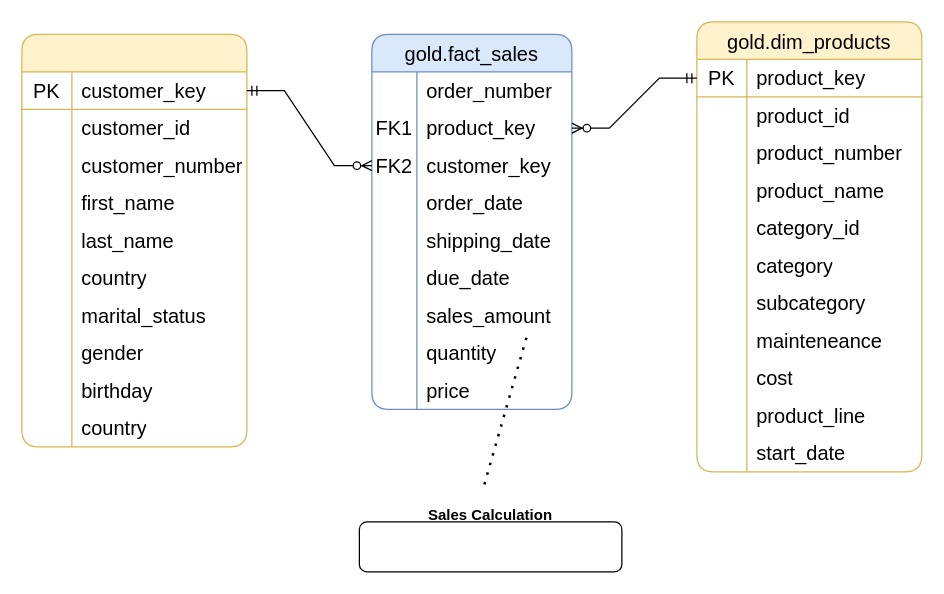
This 944x594 diagram has some shape labels left out. Each missing label, with the box of its shape:
gold.dim_customers: (21, 33, 247, 447)
Sales = Quantity * Price: (358, 521, 622, 572)
